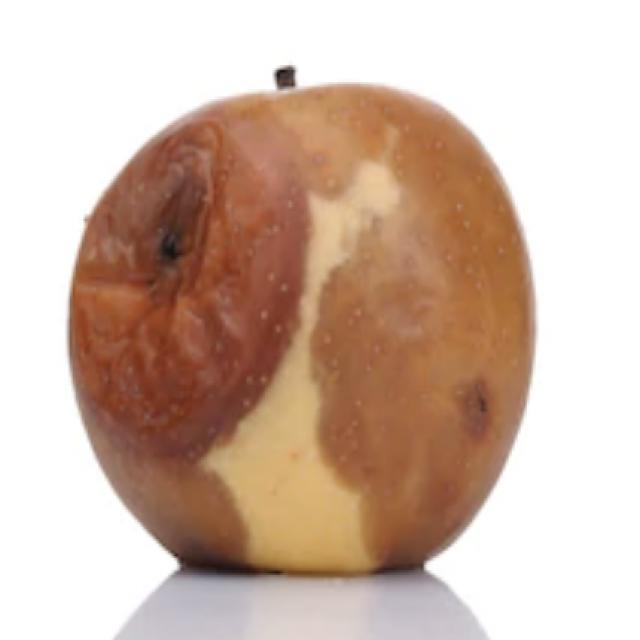rotten_apple: (67, 66, 534, 583)
